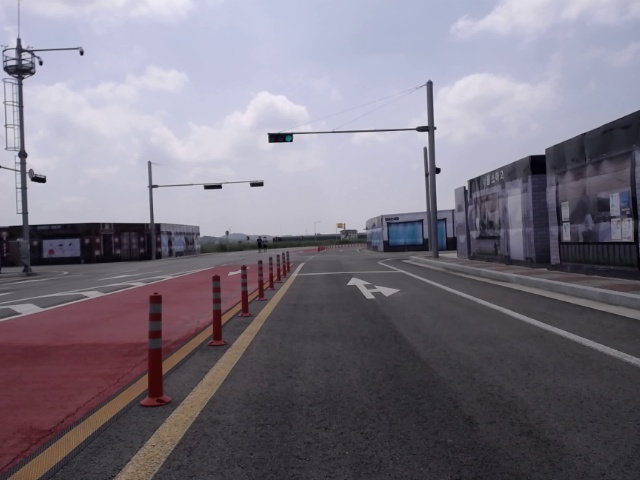green_3: (268, 133, 293, 143)
